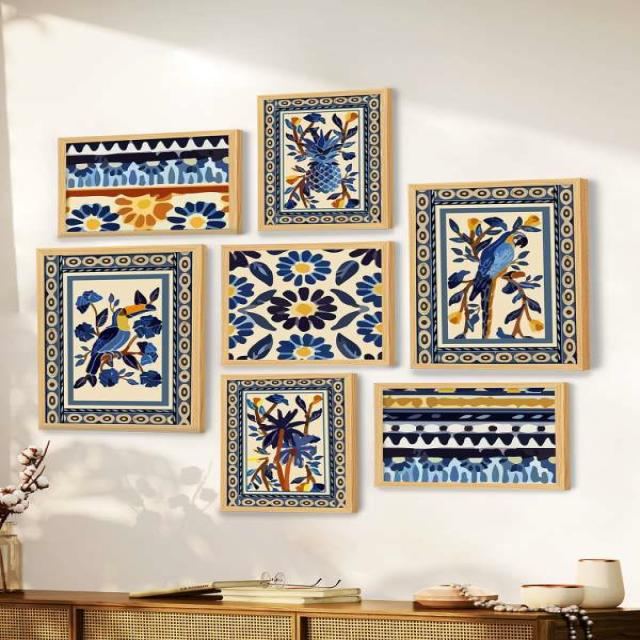painting: (409, 178, 584, 370), (36, 242, 203, 432), (221, 240, 389, 364), (375, 382, 567, 488), (57, 130, 238, 236), (221, 371, 354, 512), (258, 89, 390, 230)
